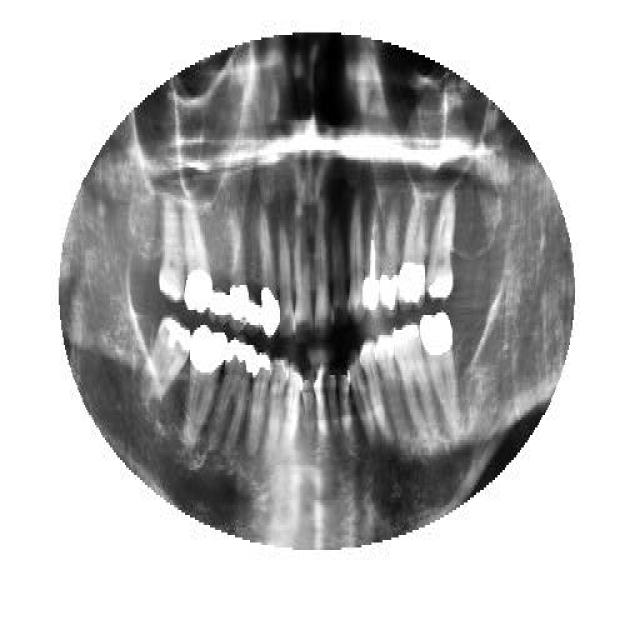Fillings: (209, 335, 256, 447), (186, 325, 228, 443), (420, 312, 460, 418), (146, 317, 192, 405), (396, 178, 426, 312), (184, 185, 212, 313), (256, 215, 282, 335), (427, 192, 455, 300), (248, 345, 272, 455), (229, 200, 249, 325), (378, 200, 398, 312), (242, 218, 260, 330), (210, 215, 228, 323)
Implant: (362, 210, 380, 315)
